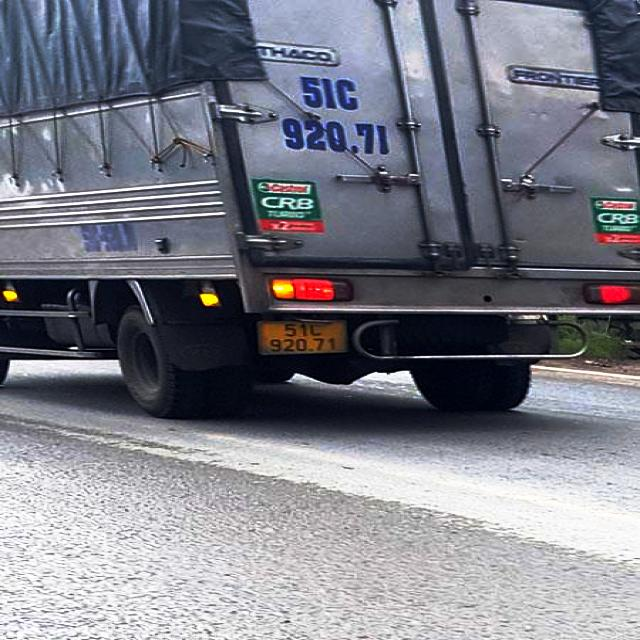license_plate: (260, 323, 351, 354)
